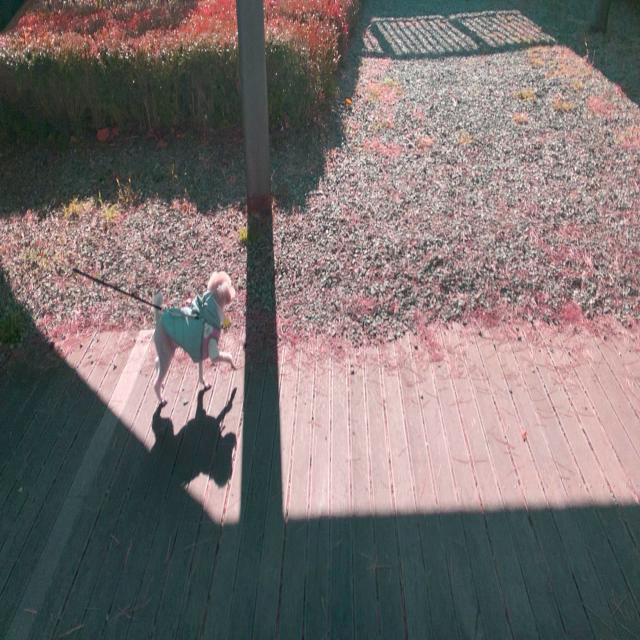Dog: (153, 269, 237, 405)
